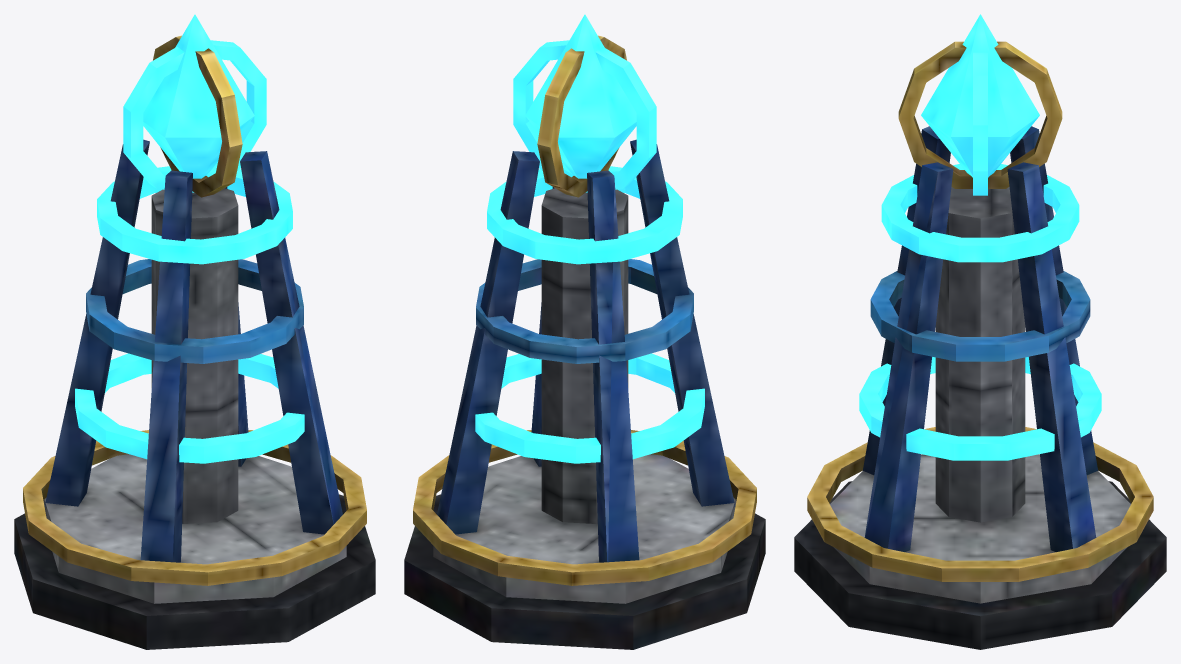
Rendered from u_pulsar3_w.glb.
3 views of the same model, side by side, from view 1: azimuth 30°, elevation 25°; view 2: azimuth 150°, elevation 25°; view 3: azimuth 270°, elevation 25° (orthographic).
Visible parts, largest first — view 1: u_pulsar3_w; view 2: u_pulsar3_w; view 3: u_pulsar3_w.
Part boxes in pixels (x1,y1,x2,y2): u_pulsar3_w: (14, 14, 375, 649); u_pulsar3_w: (404, 14, 765, 649); u_pulsar3_w: (794, 14, 1166, 649).
Size of the model in its own units: 1.16 by 1.91 by 1.16.
Materials: 1 (1 with a texture image).
